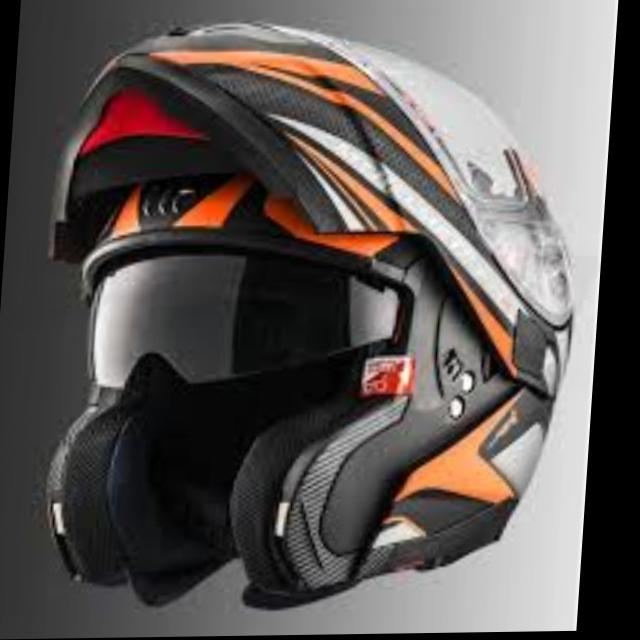motorcycle-helmets: (0, 7, 594, 613)
